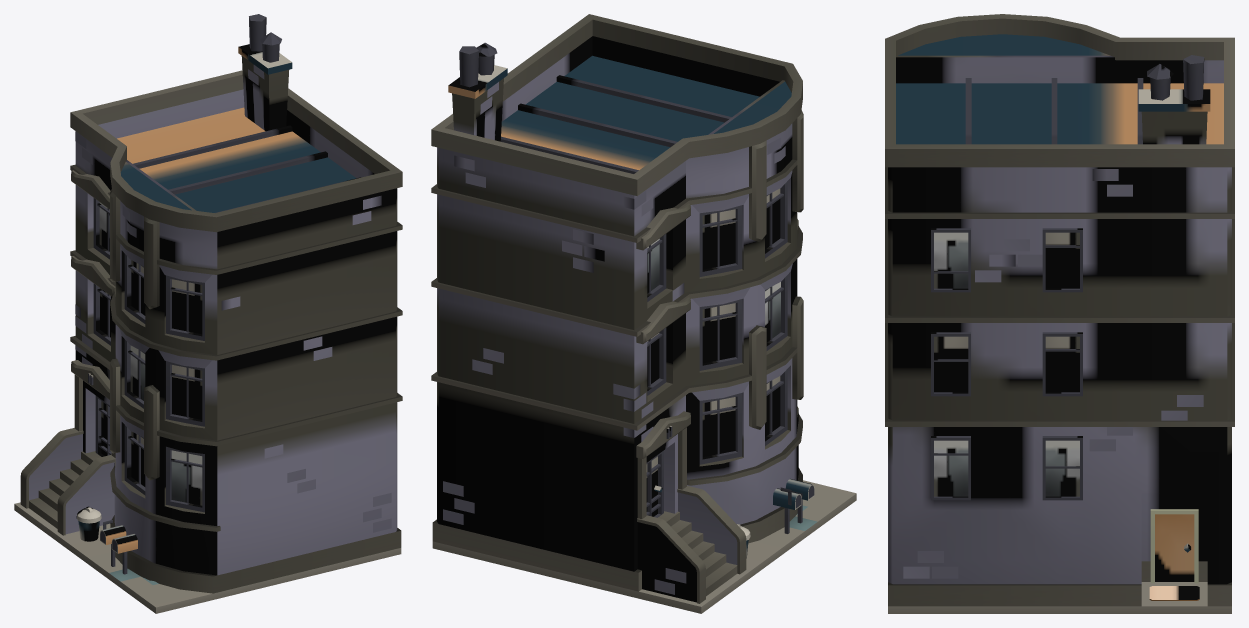
File: Building_4B.fbx
3 views of the same model, side by side, from view 1: azimuth 30°, elevation 25°; view 2: azimuth 150°, elevation 25°; view 3: azimuth 270°, elevation 25° (orthographic). The views are drawn at different scales.
Visible parts, largest first — view 1: Building_4B, Window_Lights_4B; view 2: Building_4B, Window_Lights_4B; view 3: Building_4B, Window_Lights_4B.
Part boxes in pixels (left/top/right/bottom): Building_4B: left=14, top=14, right=402, bottom=613; Window_Lights_4B: left=99, top=202, right=202, bottom=505; Building_4B: left=431, top=14, right=856, bottom=613; Window_Lights_4B: left=647, top=238, right=780, bottom=342; Building_4B: left=885, top=14, right=1234, bottom=613; Window_Lights_4B: left=934, top=232, right=1079, bottom=496.
Size of the model in its own units: 12.05 by 20.93 by 12.2.
